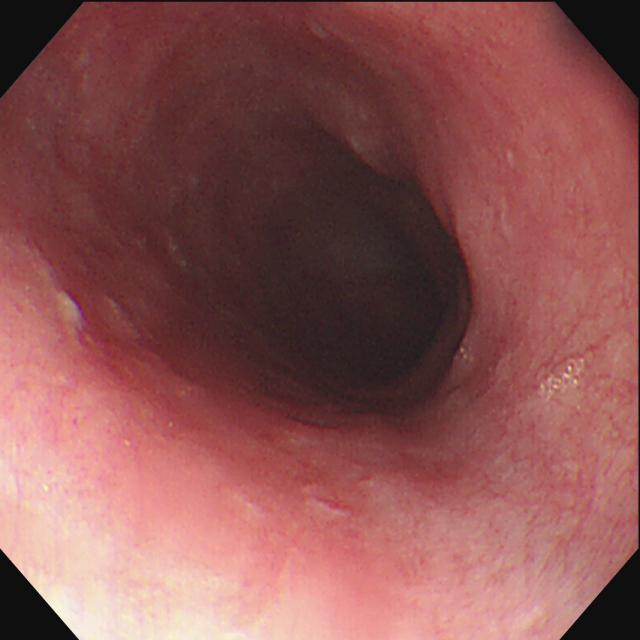E: (311, 255, 459, 412)
J: (302, 482, 351, 517), (104, 296, 142, 340), (57, 290, 86, 342)
T: (540, 358, 587, 399)
